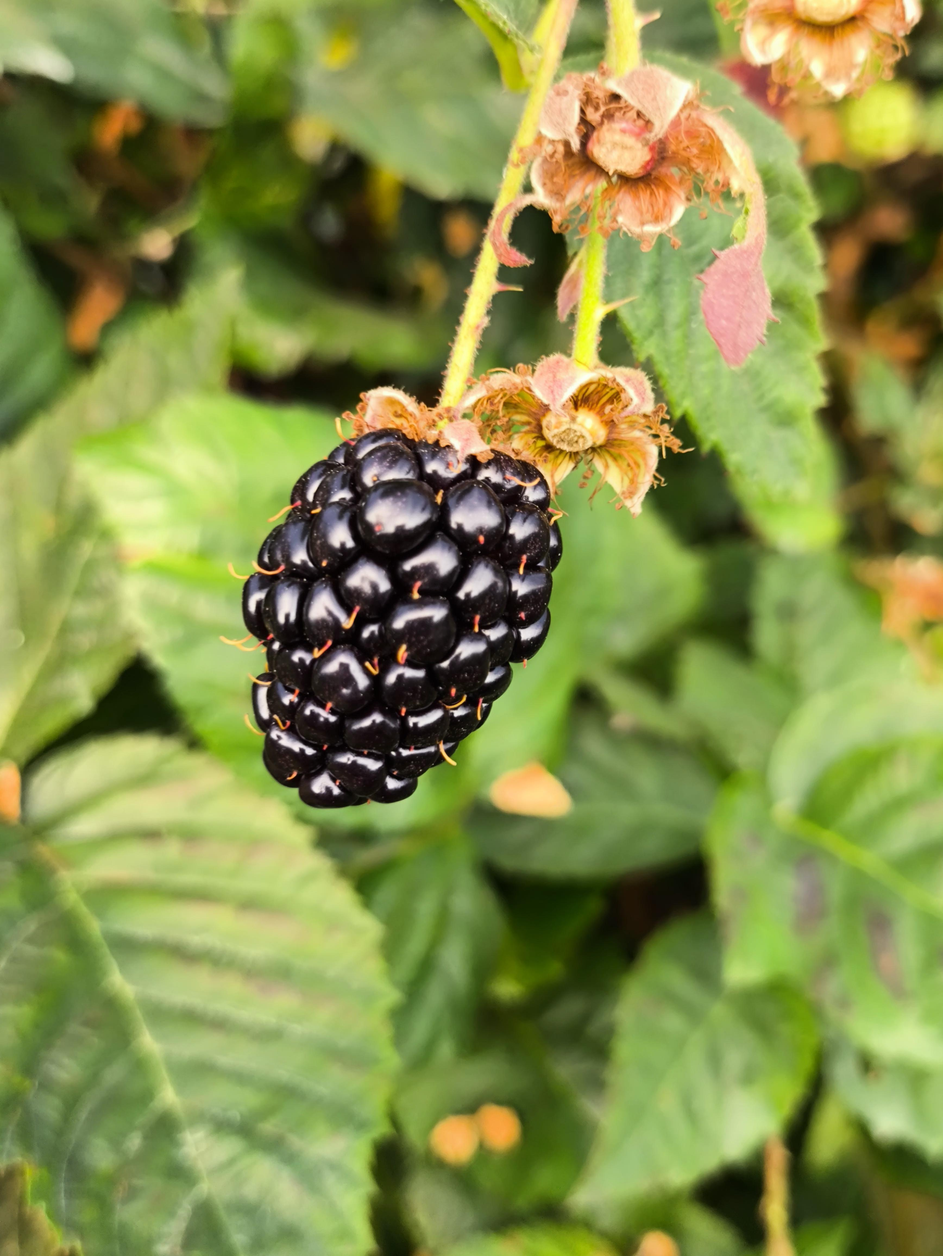maduro: (247, 441, 565, 812)
